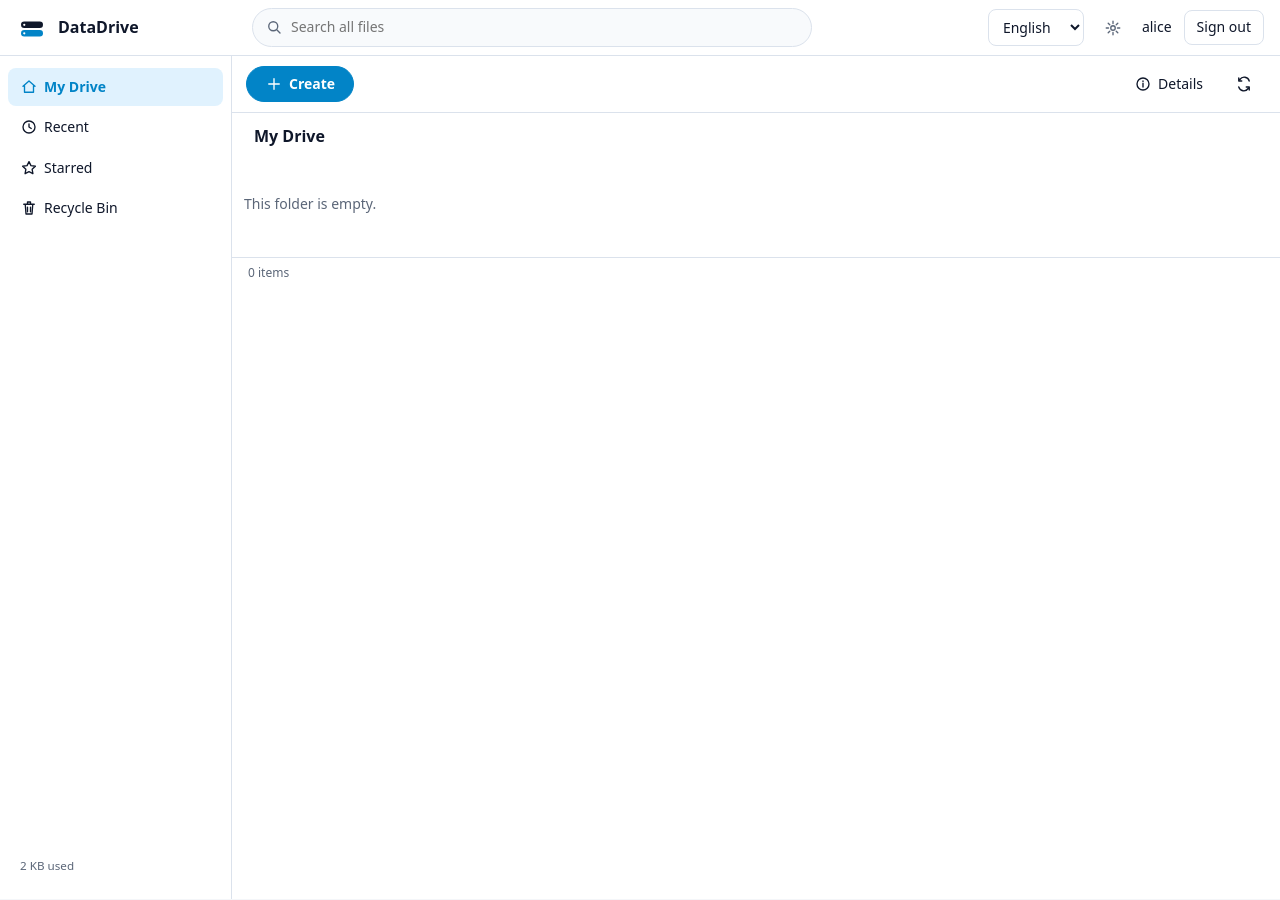
Test: administration › creates a user
The width and height of the screenshot is (1280, 900).
Expected: the element named "Actions" is shown, [232,56,1279,113]
Click the button named "Administration" at (1113, 28), box [1096,14,1130,40]
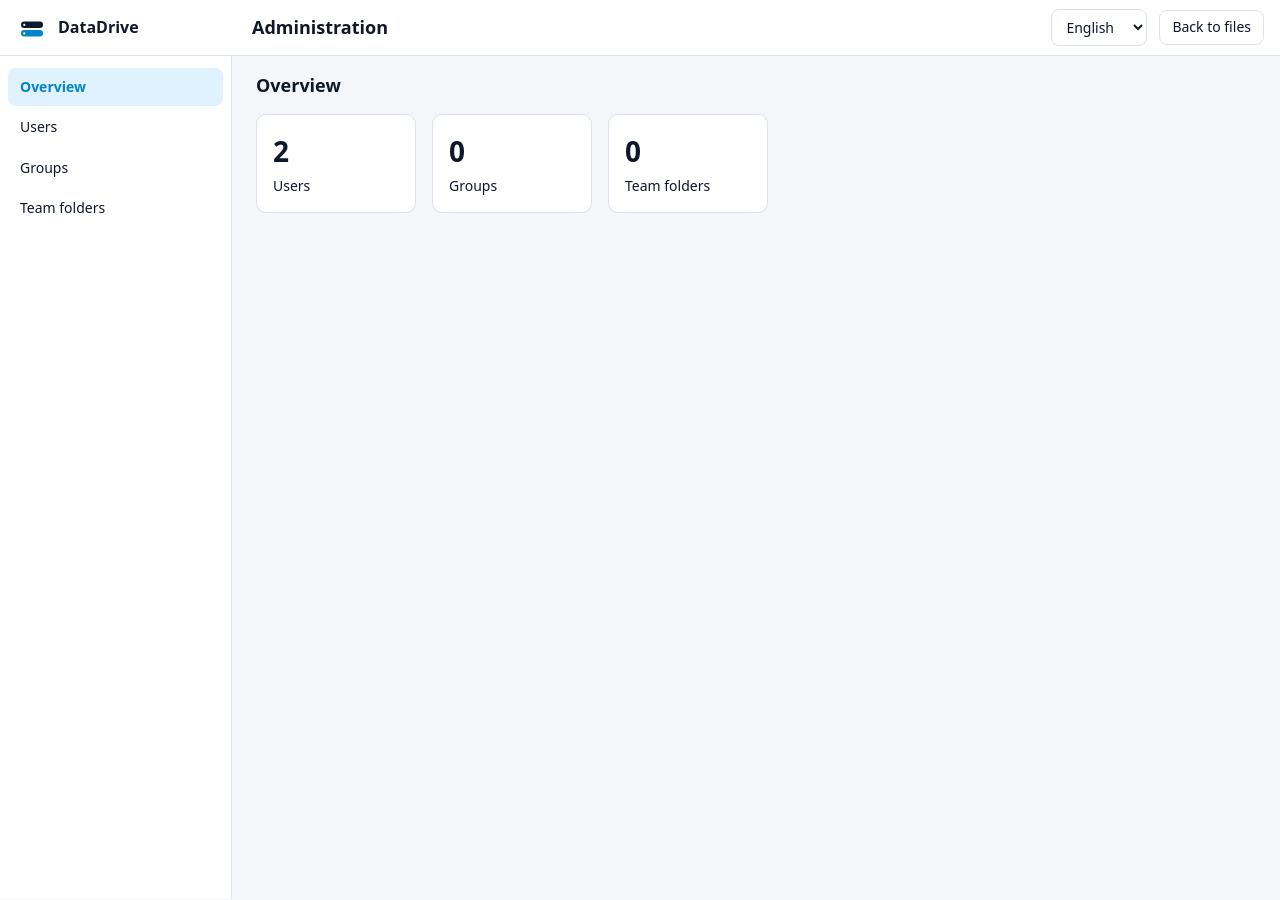
Click the button "Users" at (116, 127), box [8,108,223,147]
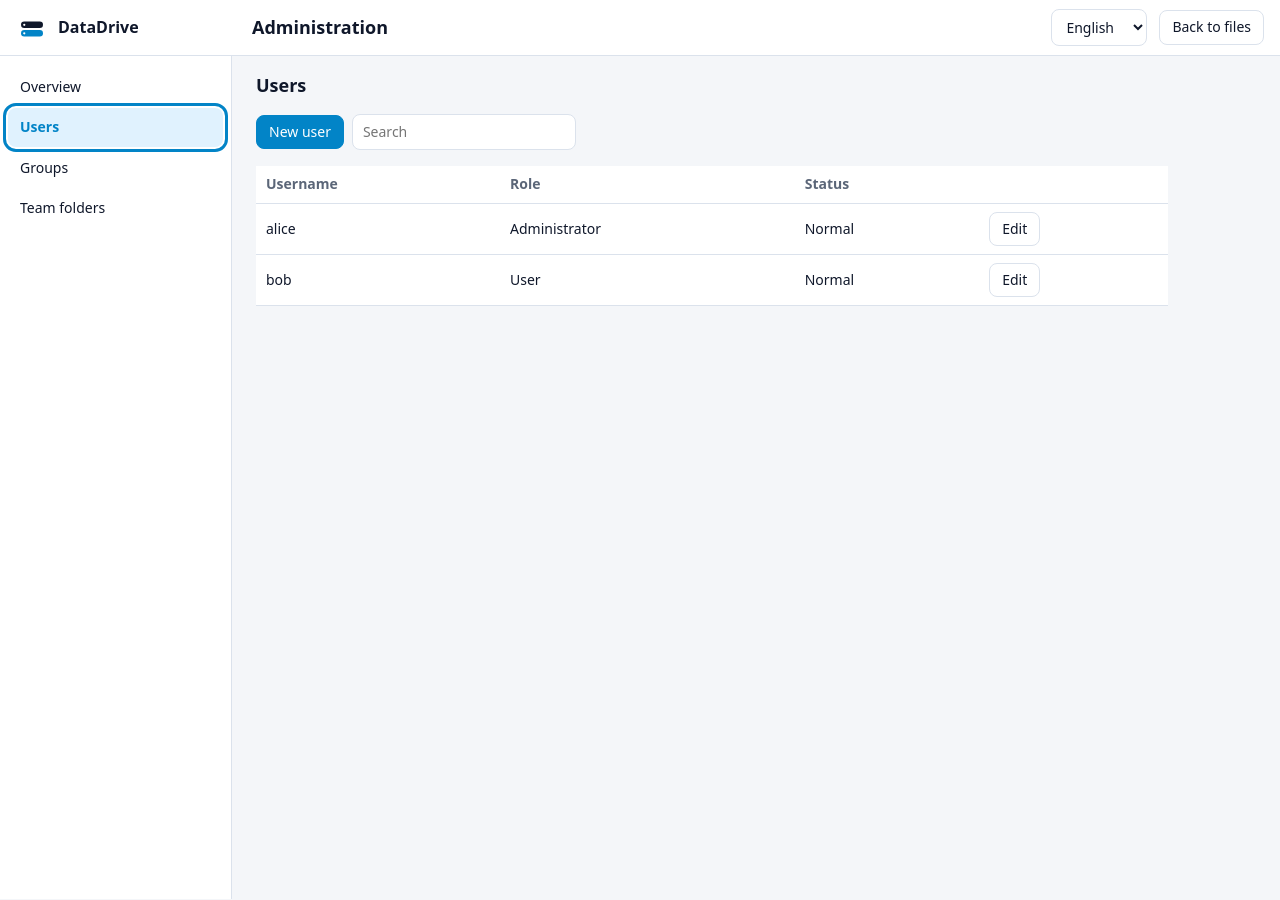
Click the button "New user" at (300, 132), box [256,115,344,149]
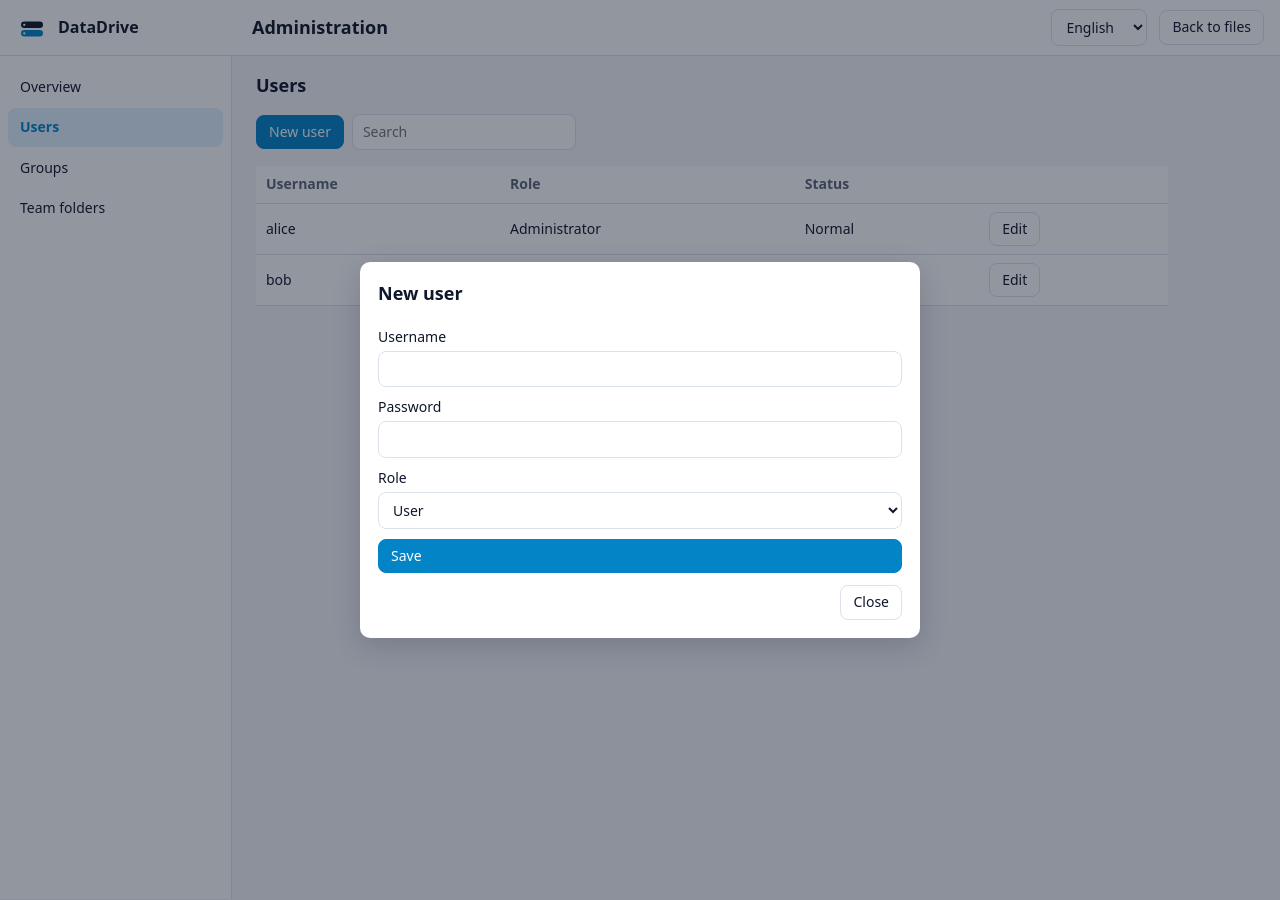
Type "carol" into the field labelled "Username" at (640, 369), box [378,351,902,387]
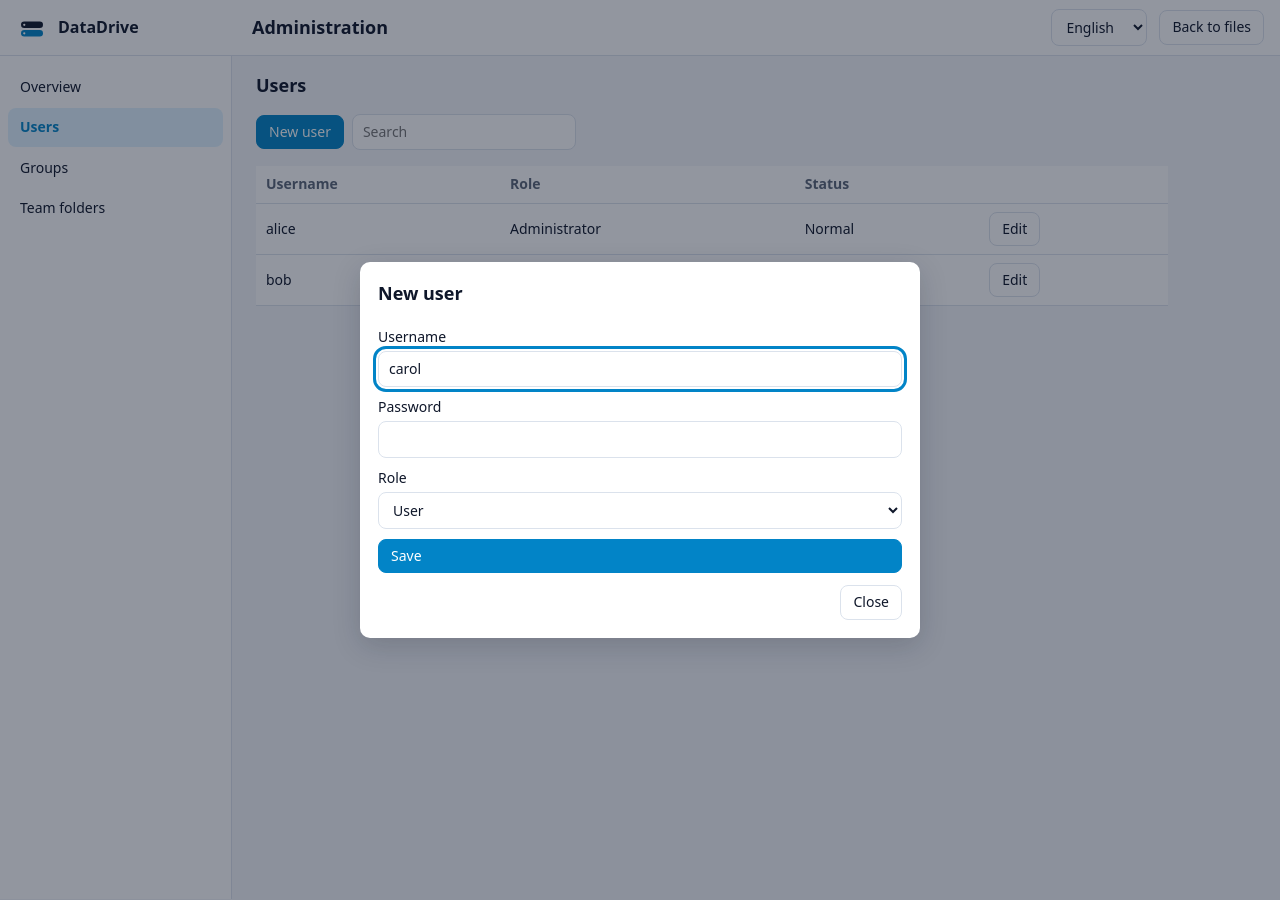
Type "a long enough secret" into the password field labelled "Password" at (640, 440), box [378,421,902,458]
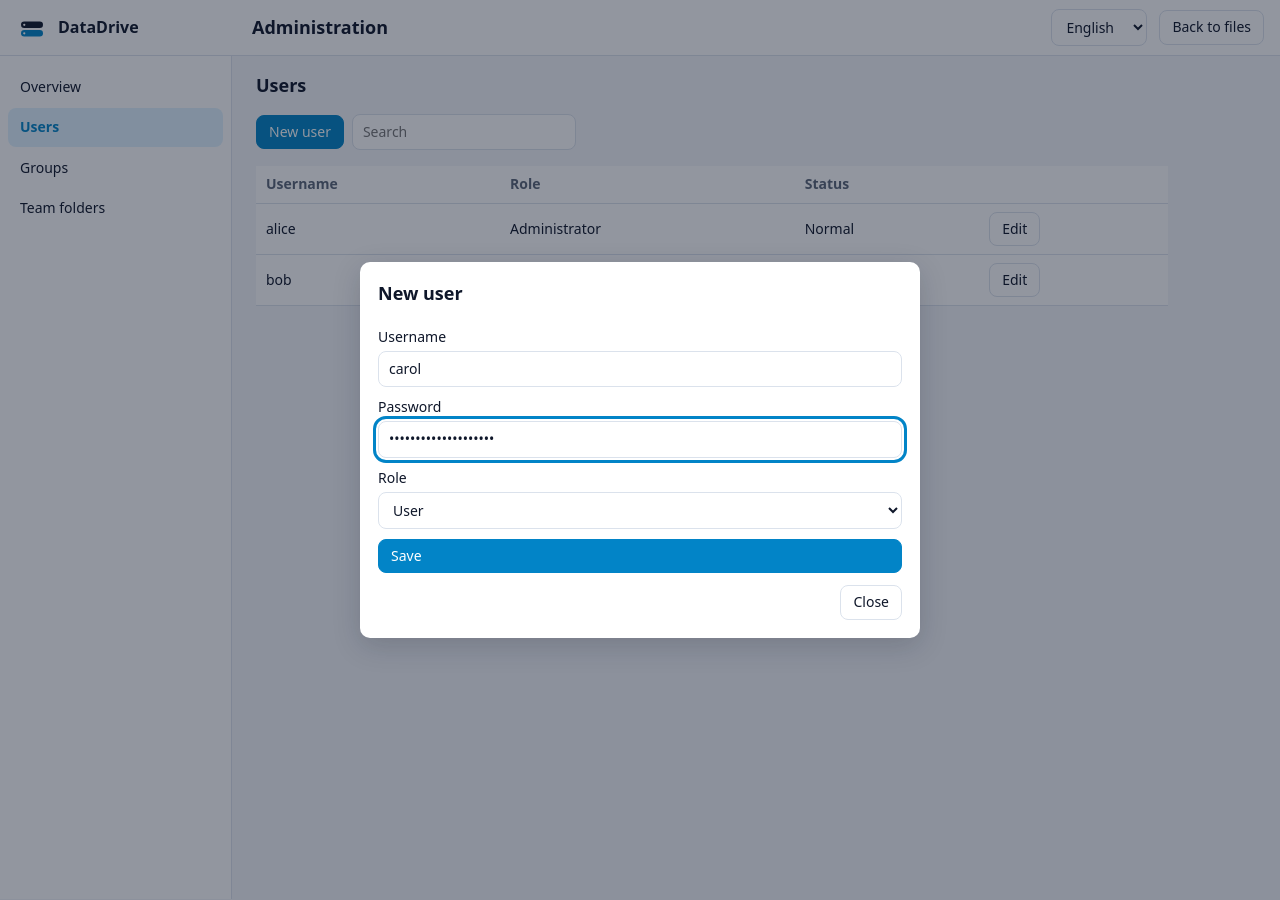
Click the button "Save" at (406, 555), box [378,539,902,573]
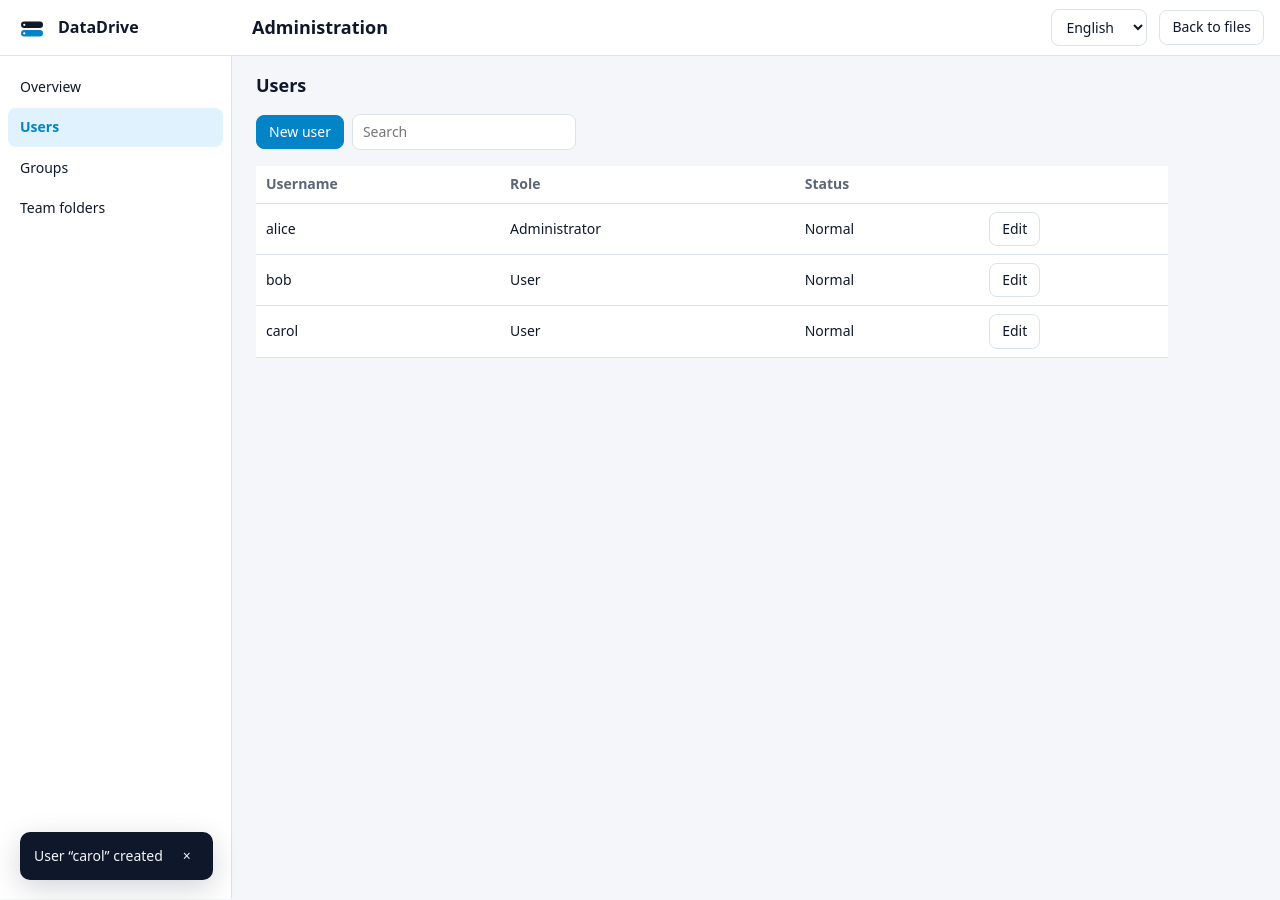
Now the text "User “carol” created" is shown, box [34,846,163,866]
Now the text "carol" is shown, box [256,306,500,357]
